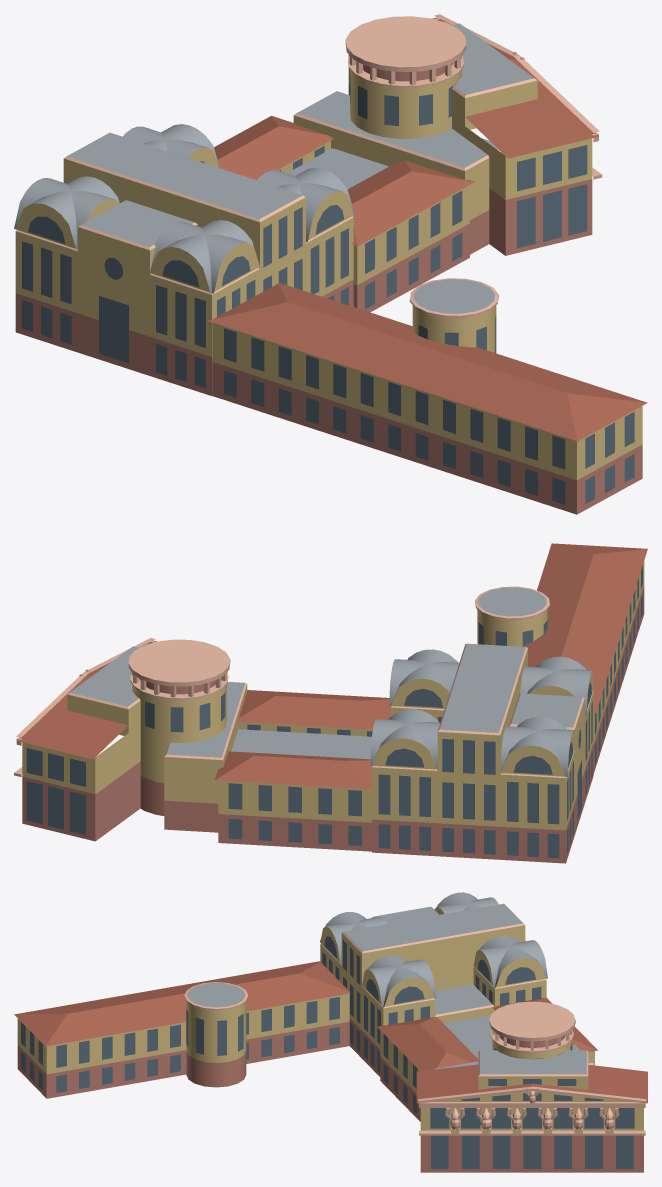
File: detail.glb
The picture shows the model from 3 angles, top to bottom: view 1: azimuth 30°, elevation 25°; view 2: azimuth 150°, elevation 25°; view 3: azimuth 270°, elevation 25°; orthographic projection. The views are drawn at different scales.
Parts seen in each view (by area): view 1: team-disney-the-michael-d-eisner-building; view 2: team-disney-the-michael-d-eisner-building; view 3: team-disney-the-michael-d-eisner-building.
Part boxes in pixels (bbox=[...]): team-disney-the-michael-d-eisner-building: bbox=[14, 14, 647, 514]; team-disney-the-michael-d-eisner-building: bbox=[14, 543, 647, 863]; team-disney-the-michael-d-eisner-building: bbox=[14, 892, 647, 1172].
Bounding box in the file's own units: 117 × 33 × 164.
